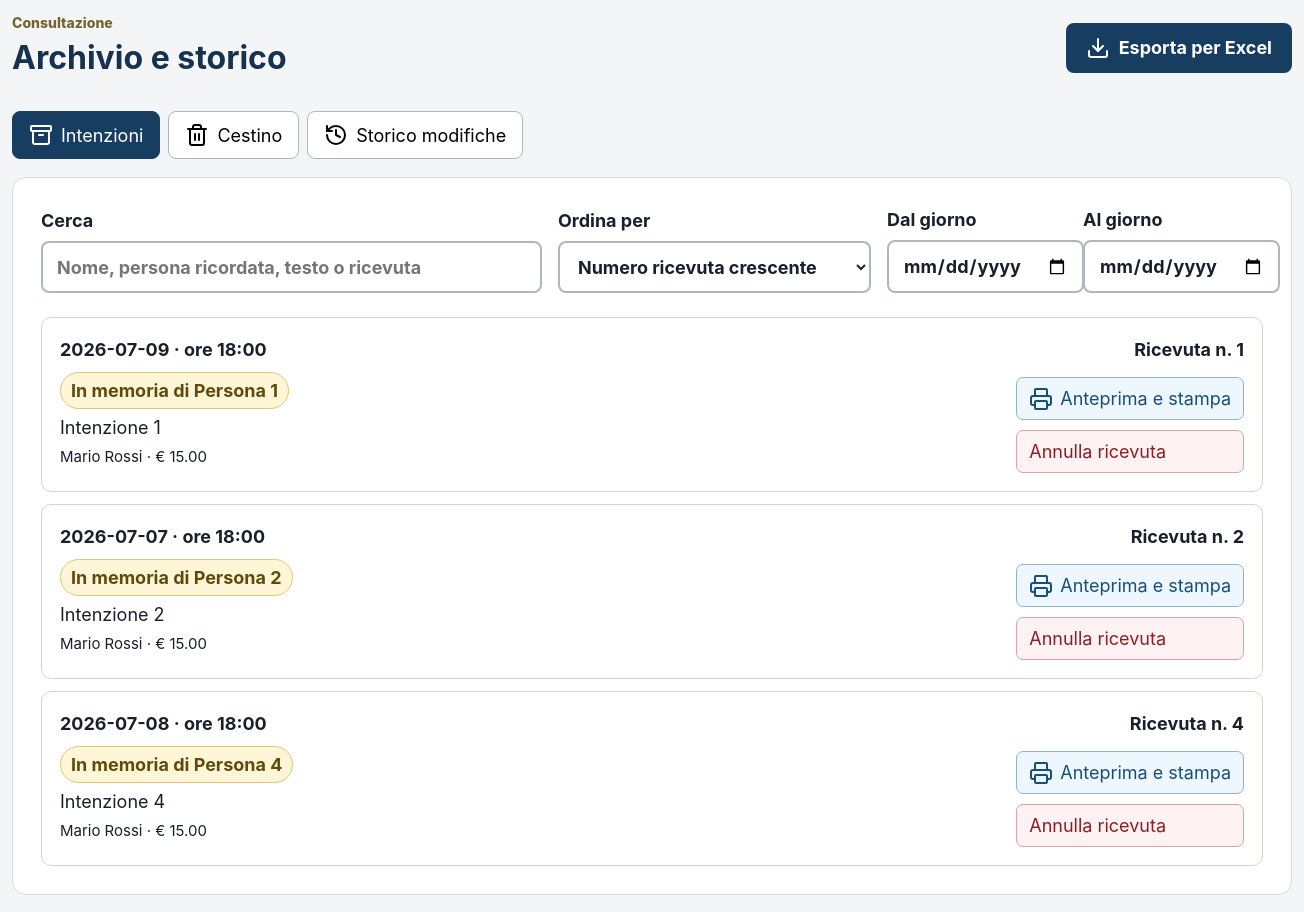
Test: filtri ed esportazione archivio › ordina le ricevute in modo crescente e separa il cestino
Expected: the elements "Ricevuta n." read "Ricevuta n. 1", "Ricevuta n. 2", "Ricevuta n. 4", in this order, [1134, 339, 1244, 360]; [1131, 526, 1244, 547]; [1130, 713, 1244, 734]
Expected: the text "In memoria di Persona 1" is shown, [60, 372, 289, 409]
Click the button "Cestino" at (234, 135), box [168, 111, 299, 159]
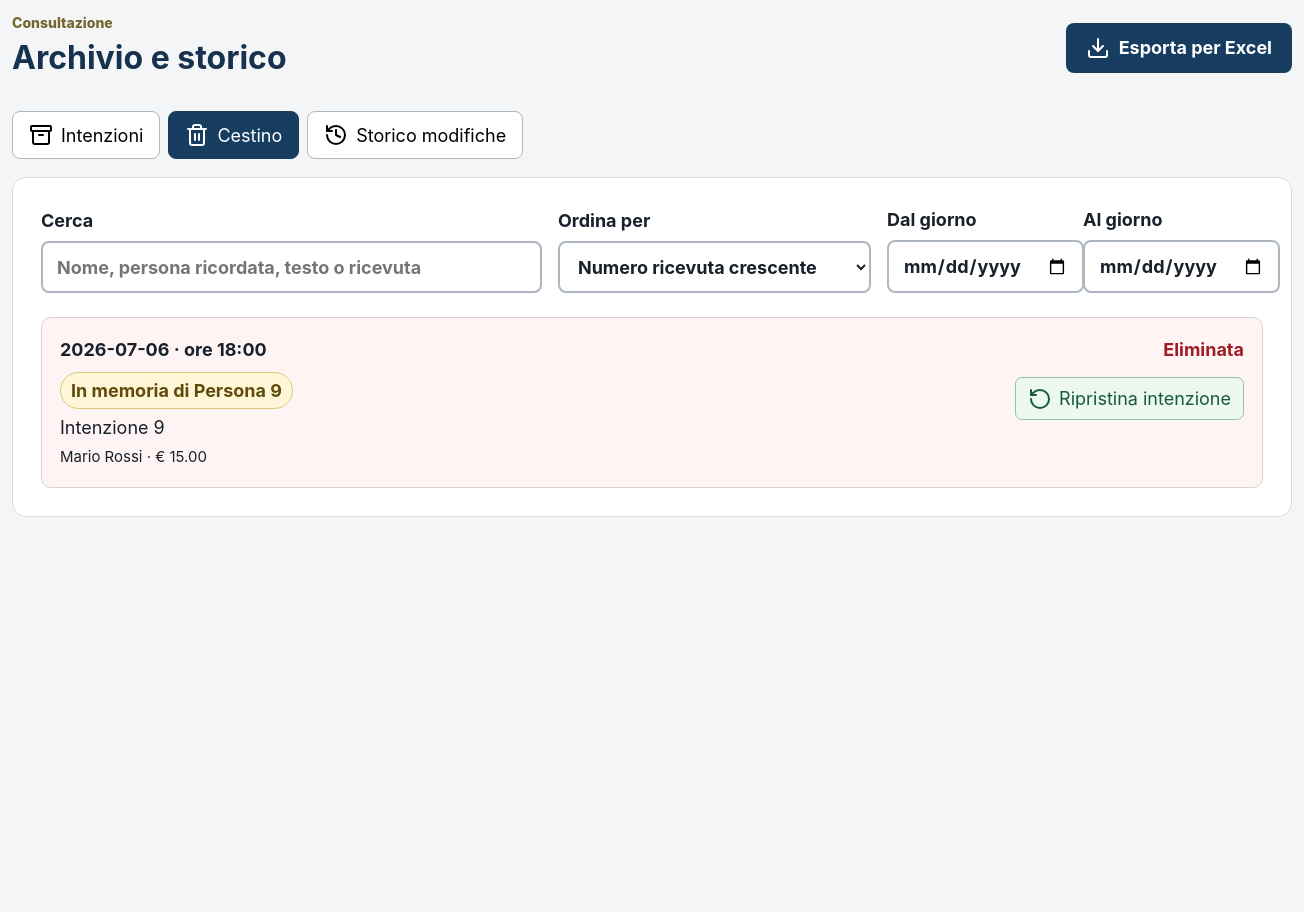
Expected: the text "Intenzione 9" is shown, [60, 414, 165, 441]
Expected: the text "Intenzione 1" is gone
